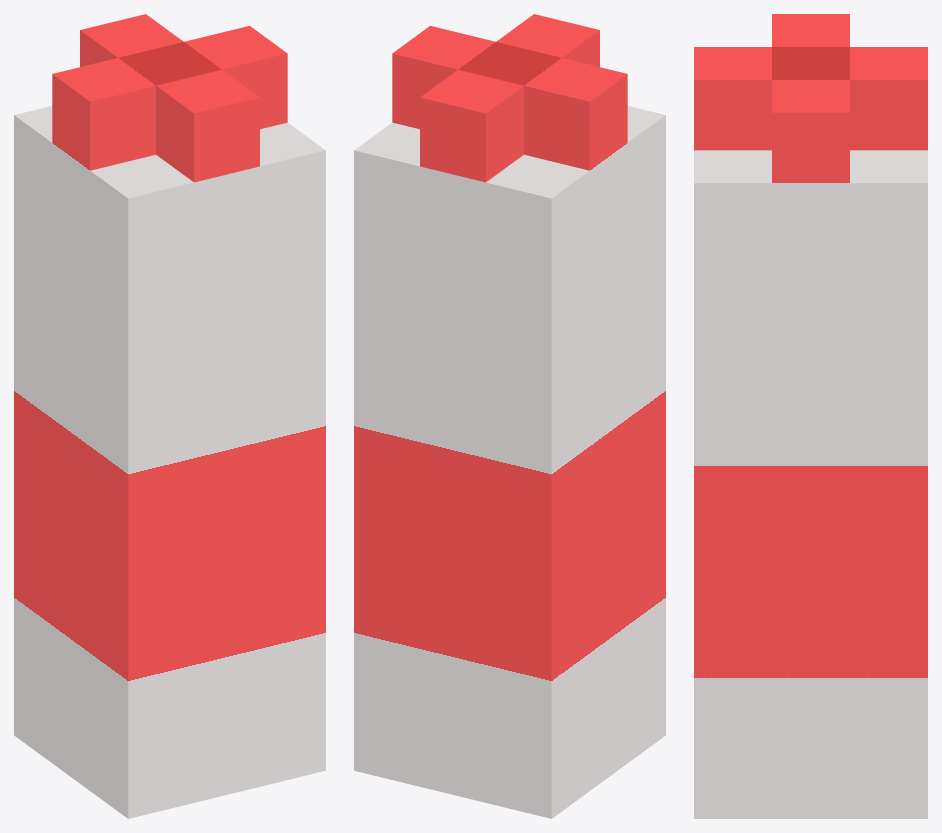
Rendered from 瓶装水.gltf.
The picture shows the model from 3 angles, left to right: view 1: azimuth 30°, elevation 25°; view 2: azimuth 150°, elevation 25°; view 3: azimuth 270°, elevation 25°; orthographic projection. The views are drawn at different scales.
Parts seen in each view (by area): view 1: Object-2; view 2: Object-2; view 3: Object-2.
Boxes of the visible parts, left/top/right/bottom form: Object-2: left=14, top=14, right=325, bottom=818; Object-2: left=354, top=14, right=665, bottom=818; Object-2: left=694, top=14, right=927, bottom=818.
Size of the model in its own units: 3 by 10 by 3.
1 material, 1 textured.
